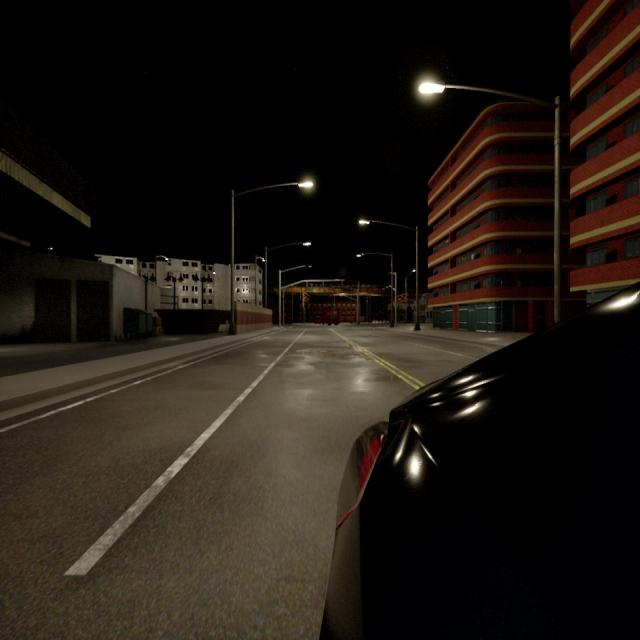Vehicle: (324, 287, 640, 638), (322, 309, 338, 325), (315, 316, 320, 325)
traffic_light: (322, 281, 324, 287), (330, 294, 332, 298), (307, 282, 308, 288), (341, 294, 342, 297), (342, 281, 342, 285)
